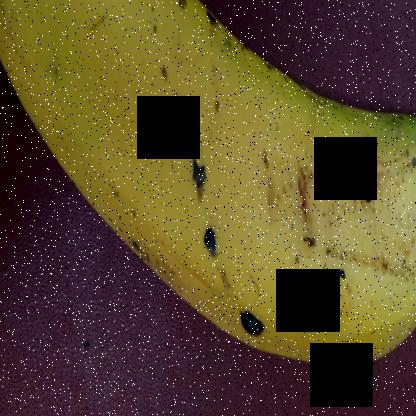ripe: (0, 0, 415, 386)
